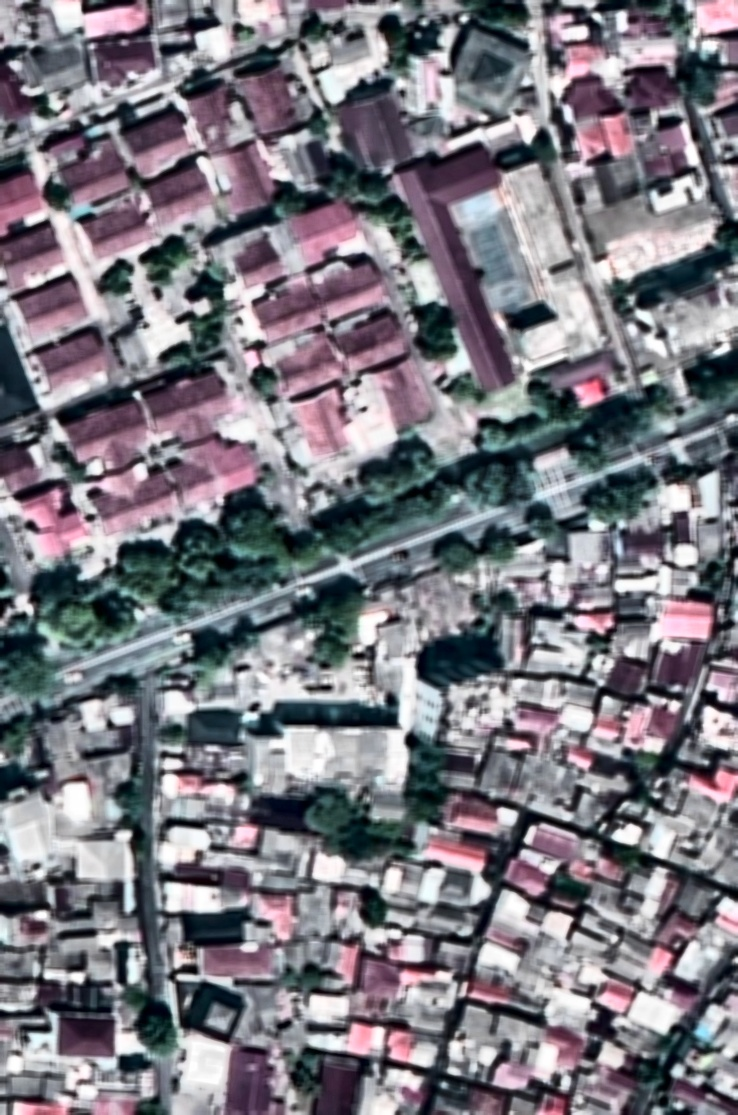building: (394, 156, 520, 398), (496, 157, 611, 363), (607, 248, 738, 390), (394, 648, 527, 758), (438, 996, 565, 1102), (244, 725, 404, 801), (270, 377, 393, 469), (47, 699, 134, 819), (81, 451, 184, 546), (439, 22, 533, 124), (229, 43, 317, 140), (140, 368, 239, 454), (165, 428, 260, 512), (60, 395, 154, 479), (112, 99, 201, 187), (202, 219, 301, 298), (669, 1001, 737, 1114), (301, 247, 391, 330), (335, 86, 415, 178), (70, 187, 156, 269), (178, 69, 255, 160), (199, 136, 279, 222), (451, 1002, 548, 1072), (238, 272, 325, 350), (255, 329, 345, 402), (13, 481, 91, 565), (259, 120, 337, 201), (358, 357, 434, 439), (281, 194, 364, 269), (0, 790, 64, 887), (51, 136, 132, 210), (52, 807, 131, 881), (85, 27, 163, 101), (0, 221, 73, 299), (15, 1011, 120, 1064), (141, 169, 218, 241), (30, 328, 111, 396), (563, 150, 645, 217), (612, 852, 683, 929), (525, 932, 609, 997), (12, 275, 89, 342), (399, 40, 458, 127), (426, 141, 500, 209), (331, 313, 409, 377), (177, 976, 247, 1047), (380, 970, 453, 1038), (616, 687, 683, 760), (0, 316, 42, 427), (218, 1047, 287, 1114), (522, 818, 600, 873), (605, 928, 673, 991), (81, 754, 135, 826), (555, 63, 619, 122), (0, 167, 50, 238), (28, 37, 88, 96), (356, 1066, 427, 1115), (579, 873, 641, 929), (370, 1061, 433, 1115), (605, 1013, 673, 1063), (572, 1060, 637, 1112), (632, 169, 702, 217), (572, 755, 640, 804), (71, 833, 130, 889), (648, 637, 702, 698), (472, 744, 527, 803), (545, 349, 612, 396), (419, 832, 492, 874), (411, 899, 479, 944), (318, 22, 376, 74), (620, 986, 679, 1037), (692, 826, 738, 891), (440, 791, 504, 837), (427, 1078, 506, 1115), (76, 0, 149, 40), (174, 911, 247, 951), (381, 854, 441, 902), (688, 701, 738, 758), (310, 1056, 358, 1115), (251, 793, 318, 835), (255, 829, 312, 878), (294, 877, 341, 936), (499, 852, 554, 902), (532, 1027, 587, 1077), (311, 851, 383, 889), (671, 939, 722, 992), (665, 1077, 736, 1115), (489, 885, 551, 928), (513, 317, 568, 365), (0, 62, 40, 127), (278, 934, 330, 984), (540, 987, 592, 1036), (0, 906, 52, 955), (623, 66, 677, 113), (654, 598, 711, 642), (198, 947, 274, 980), (529, 617, 584, 662), (0, 437, 43, 494), (181, 1036, 228, 1088), (668, 872, 715, 923), (470, 940, 525, 983), (39, 711, 82, 766), (529, 758, 576, 808), (75, 723, 134, 761), (653, 909, 699, 957), (79, 691, 137, 729), (479, 916, 534, 956), (638, 148, 699, 184), (645, 803, 699, 843), (162, 859, 234, 889), (183, 710, 241, 747), (696, 1003, 738, 1054), (88, 945, 140, 986), (598, 107, 638, 160), (373, 615, 418, 662), (701, 72, 738, 129), (10, 724, 52, 774), (676, 787, 722, 832), (253, 896, 292, 949), (155, 877, 215, 911), (510, 961, 555, 1005), (433, 867, 478, 910), (648, 118, 694, 160), (605, 653, 647, 699), (357, 956, 403, 998), (567, 116, 608, 163), (183, 746, 245, 777), (567, 787, 610, 831), (326, 936, 361, 990), (489, 1058, 534, 1099), (200, 822, 261, 852), (547, 9, 591, 50), (594, 12, 622, 76), (497, 614, 528, 671), (404, 113, 449, 152), (620, 524, 667, 561), (674, 1034, 716, 1075), (368, 657, 405, 703), (199, 793, 250, 826), (695, 0, 737, 40), (333, 888, 364, 941), (193, 23, 233, 64), (594, 975, 634, 1016), (566, 524, 604, 567), (556, 42, 605, 75), (510, 705, 559, 738), (610, 928, 652, 966), (606, 588, 648, 626), (374, 893, 417, 930), (593, 1040, 638, 1075), (558, 679, 599, 717), (250, 983, 279, 1036), (676, 734, 715, 773), (702, 668, 738, 710), (438, 752, 476, 791), (539, 905, 578, 943), (431, 937, 471, 974), (464, 976, 510, 1008), (48, 884, 95, 915), (691, 471, 719, 523), (604, 814, 644, 850), (159, 823, 208, 852), (516, 673, 559, 705), (707, 892, 738, 936), (566, 928, 608, 960), (624, 1078, 660, 1115), (584, 1007, 622, 1042), (380, 1026, 414, 1065), (0, 880, 49, 907), (570, 380, 614, 410), (157, 792, 204, 820), (367, 790, 408, 822), (1, 953, 42, 985), (397, 933, 436, 966), (363, 926, 402, 959), (618, 2, 650, 42), (150, 0, 191, 31), (643, 942, 678, 978), (591, 853, 629, 886), (669, 514, 694, 564), (508, 1092, 564, 1114), (41, 955, 83, 984), (656, 565, 694, 597), (272, 1023, 310, 1055), (694, 518, 722, 561), (498, 553, 542, 580), (513, 574, 549, 607), (362, 584, 400, 615), (55, 930, 100, 956), (4, 1072, 43, 1102), (581, 733, 626, 759), (66, 986, 114, 1010), (58, 782, 86, 822), (560, 742, 597, 772), (401, 821, 431, 858), (663, 478, 692, 515), (91, 1093, 139, 1115), (571, 584, 613, 609), (342, 1021, 371, 1057), (306, 993, 350, 1016), (88, 895, 125, 922), (574, 610, 615, 634), (0, 986, 35, 1014), (194, 683, 233, 708), (159, 773, 199, 797), (648, 827, 676, 861), (559, 705, 594, 732), (595, 694, 627, 723), (613, 573, 658, 593), (492, 804, 519, 836), (589, 715, 619, 743), (195, 775, 241, 793), (571, 1096, 617, 1114), (149, 693, 158, 783), (407, 1040, 435, 1068), (39, 1074, 66, 1103), (38, 982, 64, 1012), (258, 873, 297, 892), (170, 940, 186, 983), (718, 34, 737, 70), (716, 107, 736, 140), (12, 1102, 67, 1114), (614, 556, 647, 576), (638, 36, 672, 55), (218, 869, 249, 889), (321, 855, 343, 882), (641, 17, 668, 38), (561, 562, 582, 587), (558, 727, 585, 746), (344, 860, 372, 878), (718, 621, 737, 647), (139, 1068, 155, 1097), (75, 851, 91, 879), (631, 113, 653, 133), (0, 1039, 11, 1079), (236, 868, 250, 889), (312, 868, 323, 883), (92, 921, 105, 933), (217, 855, 230, 866), (79, 941, 90, 953), (99, 937, 112, 946), (171, 775, 177, 794), (280, 1029, 288, 1043)
tree: (318, 471, 464, 566), (560, 395, 659, 480), (213, 492, 294, 587), (349, 428, 445, 508), (316, 150, 394, 224), (147, 562, 222, 631), (105, 543, 181, 610), (32, 585, 99, 659), (365, 195, 435, 263), (293, 776, 361, 844), (0, 635, 63, 708), (459, 459, 540, 515), (134, 229, 198, 294), (409, 291, 462, 368), (583, 473, 657, 526), (299, 580, 363, 637), (520, 381, 587, 435), (178, 632, 237, 693), (476, 411, 551, 454), (671, 53, 724, 113), (431, 528, 485, 581), (172, 525, 225, 578), (214, 557, 279, 598), (130, 1010, 179, 1062), (645, 0, 702, 44), (473, 519, 522, 569), (684, 358, 735, 404), (319, 820, 368, 864), (406, 742, 444, 796), (442, 366, 489, 406), (642, 380, 685, 423), (97, 602, 139, 645), (464, 0, 526, 28), (376, 20, 408, 74), (516, 502, 558, 543), (309, 630, 350, 671), (0, 715, 38, 759), (523, 128, 562, 169), (196, 265, 230, 311), (264, 186, 306, 222), (186, 307, 229, 340), (283, 1066, 318, 1105), (111, 777, 141, 822), (0, 606, 36, 643), (405, 789, 441, 823), (289, 538, 326, 571), (98, 262, 131, 299), (489, 585, 520, 615), (118, 986, 148, 1017), (300, 16, 328, 49), (280, 967, 320, 990), (159, 344, 193, 371), (607, 843, 641, 870), (233, 627, 264, 656), (712, 220, 737, 254), (159, 720, 188, 749), (363, 820, 401, 842), (361, 894, 387, 926), (43, 181, 68, 214), (367, 840, 413, 857), (125, 827, 148, 860), (295, 1044, 324, 1070), (552, 874, 586, 896), (31, 94, 55, 125), (630, 749, 661, 773), (474, 594, 489, 637), (254, 368, 274, 399), (106, 678, 138, 696), (307, 114, 330, 139), (194, 334, 216, 357), (255, 470, 277, 492), (234, 25, 257, 46), (233, 772, 254, 795), (635, 790, 655, 811), (280, 1048, 299, 1070), (286, 463, 308, 482), (587, 635, 607, 653), (0, 580, 16, 601), (401, 0, 423, 15), (154, 662, 172, 679), (399, 426, 418, 441)
